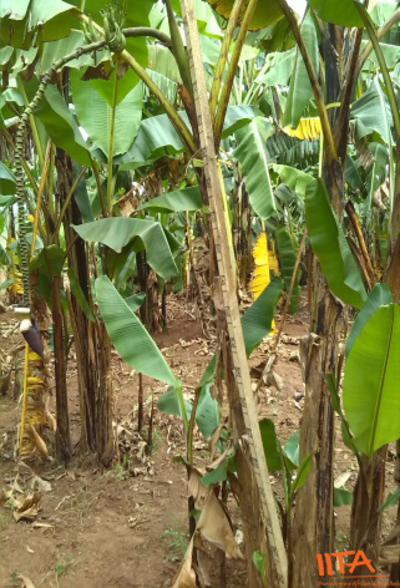bananaHand: (78, 1, 138, 68)
